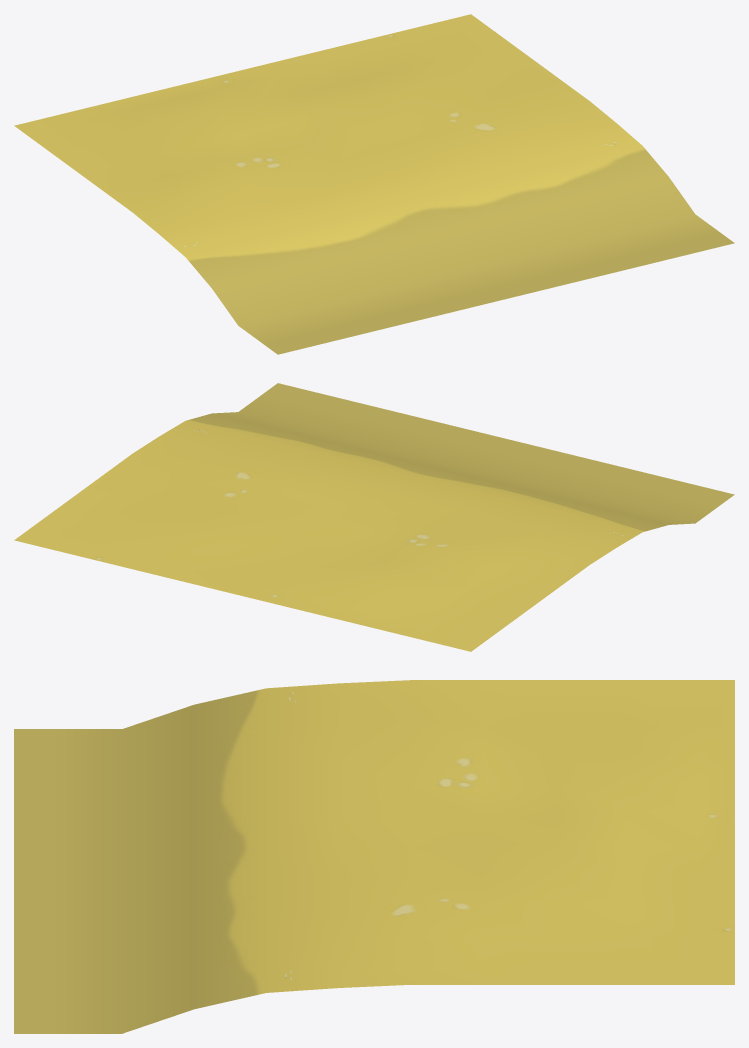
File: SandPlane_Large_CoastLine.fbx
The picture shows the model from 3 angles, top to bottom: view 1: azimuth 30°, elevation 25°; view 2: azimuth 150°, elevation 25°; view 3: azimuth 270°, elevation 25°; orthographic projection. The views are drawn at different scales.
Visible parts, largest first — view 1: SandPlane_Large_CoastLine; view 2: SandPlane_Large_CoastLine; view 3: SandPlane_Large_CoastLine.
Part boxes in pixels (<box>): SandPlane_Large_CoastLine: <box>14,14,734,354</box>; SandPlane_Large_CoastLine: <box>14,383,734,651</box>; SandPlane_Large_CoastLine: <box>14,680,734,1033</box>.
Size of the model in its own units: 4000 by 4000 by 347.
Materials: 1 (1 with a texture image).
